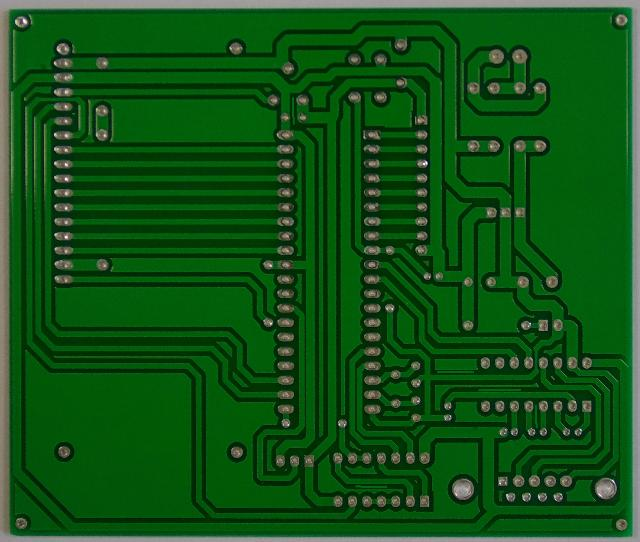spurious_copper: (474, 386, 524, 396), (352, 482, 392, 493), (433, 368, 475, 377), (288, 94, 298, 126), (532, 400, 542, 430)
